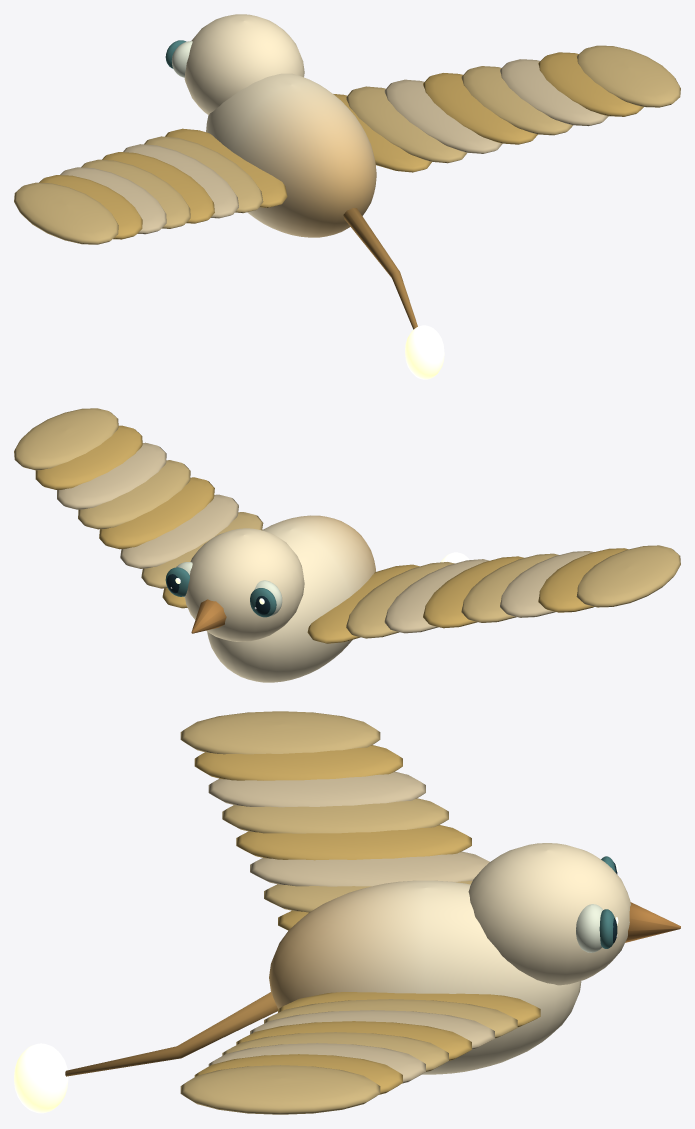
Rendered from bird.glb.
3 renders of one model, top to bottom at view 1: azimuth 30°, elevation 25°; view 2: azimuth 150°, elevation 25°; view 3: azimuth 270°, elevation 25°, orthographic. The views are drawn at different scales.
Visible parts, largest first — view 1: bird_fixed_Porcelain skin, bird_wing_right.002_Silken fins, bird_wing_left.002_Silken fins, bird_fixed_Amber lantern, bird_fixed_Silken fins; view 2: bird_wing_right.002_Silken fins, bird_fixed_Porcelain skin, bird_wing_left.002_Silken fins, bird_eye_left.002_Enamel; view 3: bird_fixed_Porcelain skin, bird_wing_left.002_Silken fins, bird_wing_right.002_Silken fins, bird_fixed_Amber lantern, bird_fixed_Silken fins, bird_eye_right.002_Porcelain skin.
Part boxes in pixels (left/top/right/bottom): bird_fixed_Porcelain skin: left=184, top=14, right=376, bottom=237; bird_wing_right.002_Silken fins: left=333, top=45, right=680, bottom=172; bird_wing_left.002_Silken fins: left=14, top=128, right=287, bottom=244; bird_fixed_Amber lantern: left=405, top=325, right=444, bottom=379; bird_fixed_Silken fins: left=343, top=208, right=417, bottom=329; bird_wing_right.002_Silken fins: left=14, top=408, right=263, bottom=608; bird_fixed_Porcelain skin: left=185, top=515, right=375, bottom=682; bird_wing_left.002_Silken fins: left=307, top=545, right=680, bottom=643; bird_eye_left.002_Enamel: left=250, top=588, right=276, bottom=617; bird_fixed_Porcelain skin: left=269, top=843, right=680, bottom=1074; bird_wing_left.002_Silken fins: left=180, top=711, right=489, bottom=930; bird_wing_right.002_Silken fins: left=180, top=992, right=540, bottom=1114; bird_fixed_Amber lantern: left=14, top=1043, right=68, bottom=1113; bird_fixed_Silken fins: left=65, top=992, right=277, bottom=1076; bird_eye_right.002_Porcelain skin: left=576, top=904, right=617, bottom=952.
Size of the model in its own units: 4.1 by 1.3 by 2.9.
